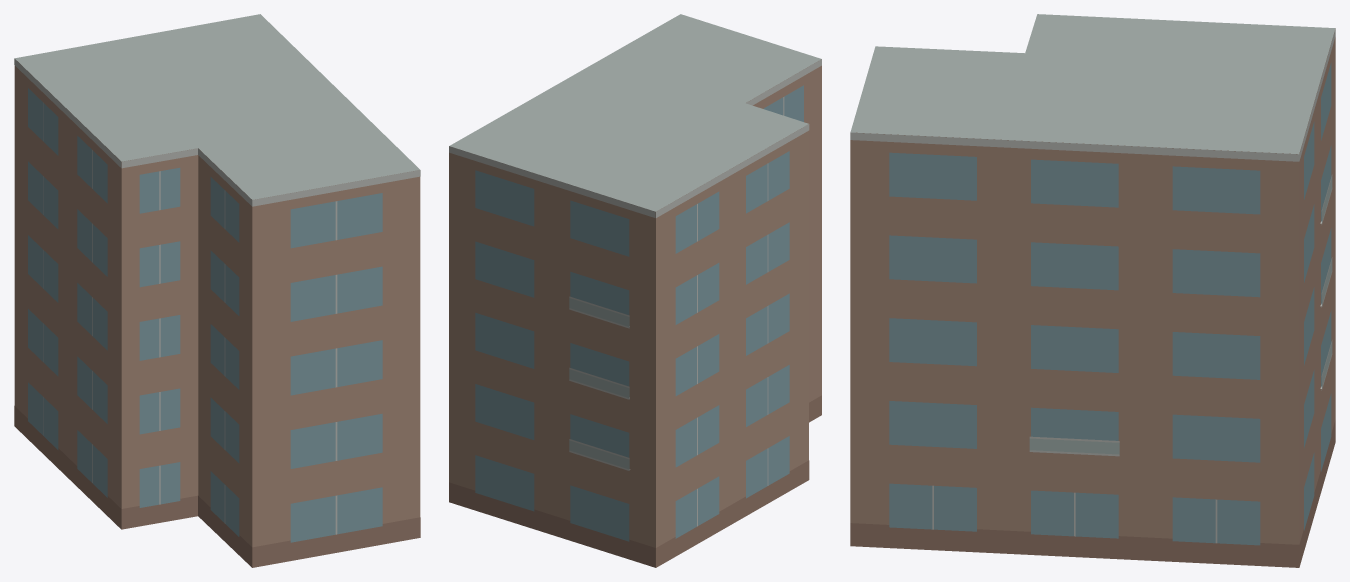
File: survey-upis-32962986.glb
The picture shows the model from 3 angles, left to right: view 1: azimuth 30°, elevation 25°; view 2: azimuth 150°, elevation 25°; view 3: azimuth 270°, elevation 25°; orthographic projection. The views are drawn at different scales.
Parts seen in each view (by area): view 1: survey-upis-32962986.tmp; view 2: survey-upis-32962986.tmp; view 3: survey-upis-32962986.tmp.
Part boxes in pixels (x1,y1,x2,y2): survey-upis-32962986.tmp: (14,14,420,567); survey-upis-32962986.tmp: (449,14,821,567); survey-upis-32962986.tmp: (850,14,1335,567).
Size of the model in its own units: 9.65 by 13.27 by 14.12.
